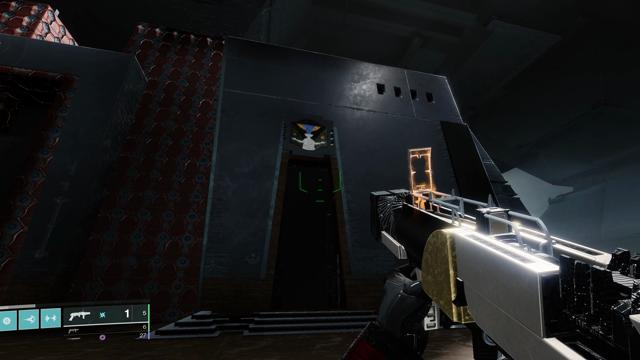drink: (290, 118, 328, 152)
